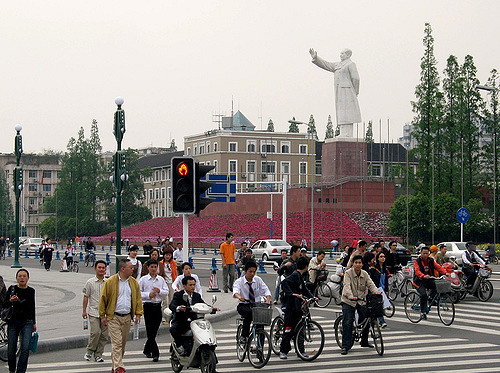backpack: (234, 272, 266, 330), (273, 251, 295, 302), (235, 272, 267, 302), (306, 250, 326, 286), (276, 269, 293, 305), (425, 248, 445, 278), (0, 287, 15, 324), (420, 253, 440, 277), (364, 291, 383, 316), (273, 274, 287, 303), (466, 244, 485, 264), (415, 257, 433, 277), (311, 264, 327, 285), (28, 330, 38, 354), (0, 303, 12, 323)
bicycle: (312, 274, 382, 359), (409, 259, 487, 315), (338, 258, 384, 341), (253, 297, 306, 364), (273, 292, 324, 360), (331, 296, 385, 356), (280, 265, 322, 340), (293, 281, 333, 356), (241, 269, 280, 344), (233, 294, 273, 367), (404, 251, 448, 317), (358, 259, 391, 345), (248, 291, 284, 362), (402, 277, 454, 326), (267, 276, 299, 354), (224, 296, 259, 364), (317, 265, 377, 304), (307, 277, 342, 342), (275, 265, 329, 306), (440, 254, 483, 303), (423, 266, 477, 304), (391, 263, 433, 309), (293, 273, 325, 332), (421, 270, 457, 320), (231, 279, 255, 352), (398, 273, 447, 307), (376, 258, 410, 306), (430, 251, 459, 307), (356, 283, 383, 342), (300, 270, 337, 311), (456, 262, 493, 302), (372, 262, 394, 317), (377, 276, 404, 319), (365, 271, 387, 322), (437, 266, 464, 303), (313, 269, 341, 304), (234, 311, 253, 362), (301, 256, 324, 298), (387, 269, 416, 302), (272, 259, 293, 304), (306, 265, 329, 303), (387, 259, 410, 294), (384, 268, 404, 306), (323, 263, 343, 301), (307, 279, 334, 307), (397, 262, 419, 295), (370, 312, 386, 356), (372, 291, 396, 320), (307, 253, 328, 286), (381, 273, 397, 313), (400, 276, 420, 307), (382, 262, 399, 297), (448, 269, 466, 302), (378, 282, 394, 317), (321, 279, 341, 304), (395, 267, 411, 298), (389, 275, 407, 301), (305, 286, 326, 307), (329, 273, 343, 304), (311, 267, 327, 294), (82, 238, 95, 267), (384, 272, 396, 299), (381, 295, 395, 317), (381, 271, 392, 298), (481, 249, 499, 263), (59, 255, 74, 271), (62, 258, 79, 272), (83, 251, 94, 267)
bottle: (137, 259, 167, 359)
bus: (18, 237, 42, 249)
car: (442, 243, 494, 295), (433, 241, 488, 275), (429, 242, 469, 287), (458, 241, 487, 288), (246, 239, 291, 261), (429, 244, 458, 274), (445, 241, 470, 273), (450, 242, 486, 263), (432, 242, 469, 260), (35, 237, 54, 267), (385, 240, 405, 267), (22, 238, 49, 256), (466, 244, 487, 264), (389, 243, 412, 261), (396, 245, 411, 265), (19, 237, 42, 249), (29, 237, 45, 250), (22, 244, 38, 257), (17, 236, 33, 247), (413, 243, 425, 254)
frisbee: (189, 302, 216, 313)
handbag: (233, 266, 272, 350), (3, 280, 31, 338), (239, 274, 270, 324), (235, 277, 265, 306), (305, 263, 327, 293), (276, 269, 293, 305), (0, 287, 15, 324), (308, 253, 326, 283), (238, 280, 254, 313), (22, 323, 37, 354), (363, 292, 383, 315), (189, 299, 217, 315), (466, 244, 485, 264), (412, 258, 426, 282), (242, 278, 255, 302), (313, 266, 327, 285), (0, 303, 12, 323), (28, 330, 38, 353)
motorcycle: (166, 299, 223, 370), (272, 288, 324, 360), (167, 274, 209, 359), (331, 295, 385, 356), (231, 296, 274, 367), (407, 252, 452, 319), (397, 262, 461, 303), (437, 240, 486, 287), (440, 254, 483, 303), (423, 266, 477, 304), (455, 261, 493, 301), (434, 255, 462, 302), (460, 246, 486, 293), (271, 253, 293, 303), (323, 263, 343, 301), (473, 265, 493, 301), (441, 256, 462, 287), (447, 268, 466, 301), (467, 244, 491, 264), (168, 339, 183, 371), (39, 246, 53, 271), (57, 257, 79, 272), (60, 249, 75, 271), (485, 246, 499, 263), (66, 255, 78, 273)
person: (255, 256, 305, 357), (308, 46, 360, 137), (100, 255, 140, 370), (338, 255, 385, 352), (275, 258, 319, 356), (166, 272, 213, 363), (230, 260, 271, 362), (1, 267, 36, 369), (80, 259, 110, 363), (161, 266, 195, 356), (180, 292, 220, 368), (137, 259, 167, 359), (333, 253, 369, 335), (301, 255, 334, 343), (358, 259, 391, 345), (287, 263, 326, 335), (404, 271, 453, 326), (409, 244, 444, 320), (112, 261, 142, 348), (335, 247, 383, 301), (438, 246, 485, 298), (272, 252, 302, 332), (413, 259, 455, 310), (147, 249, 174, 328), (394, 254, 435, 306), (427, 247, 460, 307), (227, 251, 267, 298), (232, 262, 271, 310), (234, 272, 266, 330), (429, 242, 469, 287), (231, 275, 256, 347), (277, 262, 313, 311), (374, 253, 403, 310), (457, 252, 492, 299), (366, 251, 390, 315), (168, 274, 203, 316), (444, 241, 492, 270), (407, 264, 434, 315), (424, 244, 450, 293), (409, 246, 434, 296), (333, 240, 357, 291), (461, 242, 485, 290), (413, 246, 445, 282), (273, 250, 296, 300), (162, 254, 185, 304), (442, 246, 474, 281), (304, 262, 330, 305), (312, 265, 340, 304), (280, 251, 306, 293), (218, 232, 236, 292), (328, 249, 348, 302), (437, 255, 462, 297), (171, 261, 201, 294), (386, 261, 413, 297), (232, 246, 253, 291), (138, 256, 165, 290), (224, 235, 241, 286), (429, 246, 456, 278), (381, 250, 401, 293), (158, 249, 176, 296), (306, 249, 327, 289), (362, 250, 383, 289), (273, 245, 307, 269), (386, 244, 408, 280), (276, 246, 299, 280), (350, 240, 375, 271), (372, 250, 390, 293), (378, 270, 394, 315), (171, 254, 190, 291), (336, 240, 359, 270), (273, 267, 291, 304), (163, 246, 180, 285), (332, 241, 350, 276), (360, 242, 380, 273), (427, 243, 445, 277), (346, 239, 367, 267), (126, 244, 142, 280), (432, 243, 457, 266), (463, 242, 486, 266), (441, 259, 462, 285), (235, 241, 250, 277), (369, 248, 389, 275), (239, 248, 257, 277), (140, 249, 159, 276), (39, 238, 54, 271), (377, 242, 396, 268), (385, 241, 401, 271), (390, 242, 410, 266), (294, 251, 309, 282), (286, 245, 302, 274), (460, 245, 476, 273), (366, 240, 383, 263), (367, 257, 380, 287), (277, 253, 293, 277), (281, 246, 299, 267), (61, 241, 74, 270), (471, 245, 490, 264), (83, 237, 95, 266), (239, 245, 254, 268), (291, 242, 308, 262), (171, 242, 183, 270), (335, 244, 350, 266), (274, 249, 289, 270), (331, 241, 345, 263), (350, 239, 367, 257), (362, 251, 377, 271), (296, 248, 310, 269), (434, 244, 447, 265), (60, 256, 77, 272), (236, 240, 250, 259), (484, 243, 497, 263), (388, 240, 404, 256), (462, 242, 474, 263), (66, 251, 77, 271), (37, 240, 46, 264), (287, 245, 299, 263), (428, 243, 439, 262), (127, 243, 138, 262), (60, 251, 70, 271), (63, 247, 72, 269), (371, 240, 385, 254), (298, 241, 308, 259), (376, 240, 388, 255), (83, 236, 94, 252), (58, 249, 66, 271), (257, 255, 266, 274), (35, 240, 44, 259), (63, 241, 73, 258), (162, 237, 174, 251), (0, 275, 6, 302), (0, 236, 7, 259), (329, 238, 339, 253), (142, 239, 152, 254)
skateboard: (189, 301, 217, 314)
stop sign: (455, 207, 468, 223)
suitcase: (28, 329, 38, 354)
tennis racket: (189, 301, 217, 313)
tie: (244, 279, 254, 301)
traffic light: (180, 157, 213, 215), (170, 156, 195, 213), (194, 161, 214, 214), (109, 152, 124, 190), (115, 151, 126, 181), (114, 110, 125, 139), (115, 169, 127, 193), (119, 172, 127, 191)
truck: (436, 241, 489, 269), (244, 239, 293, 261), (429, 243, 463, 269), (433, 241, 472, 261), (18, 237, 42, 249)
